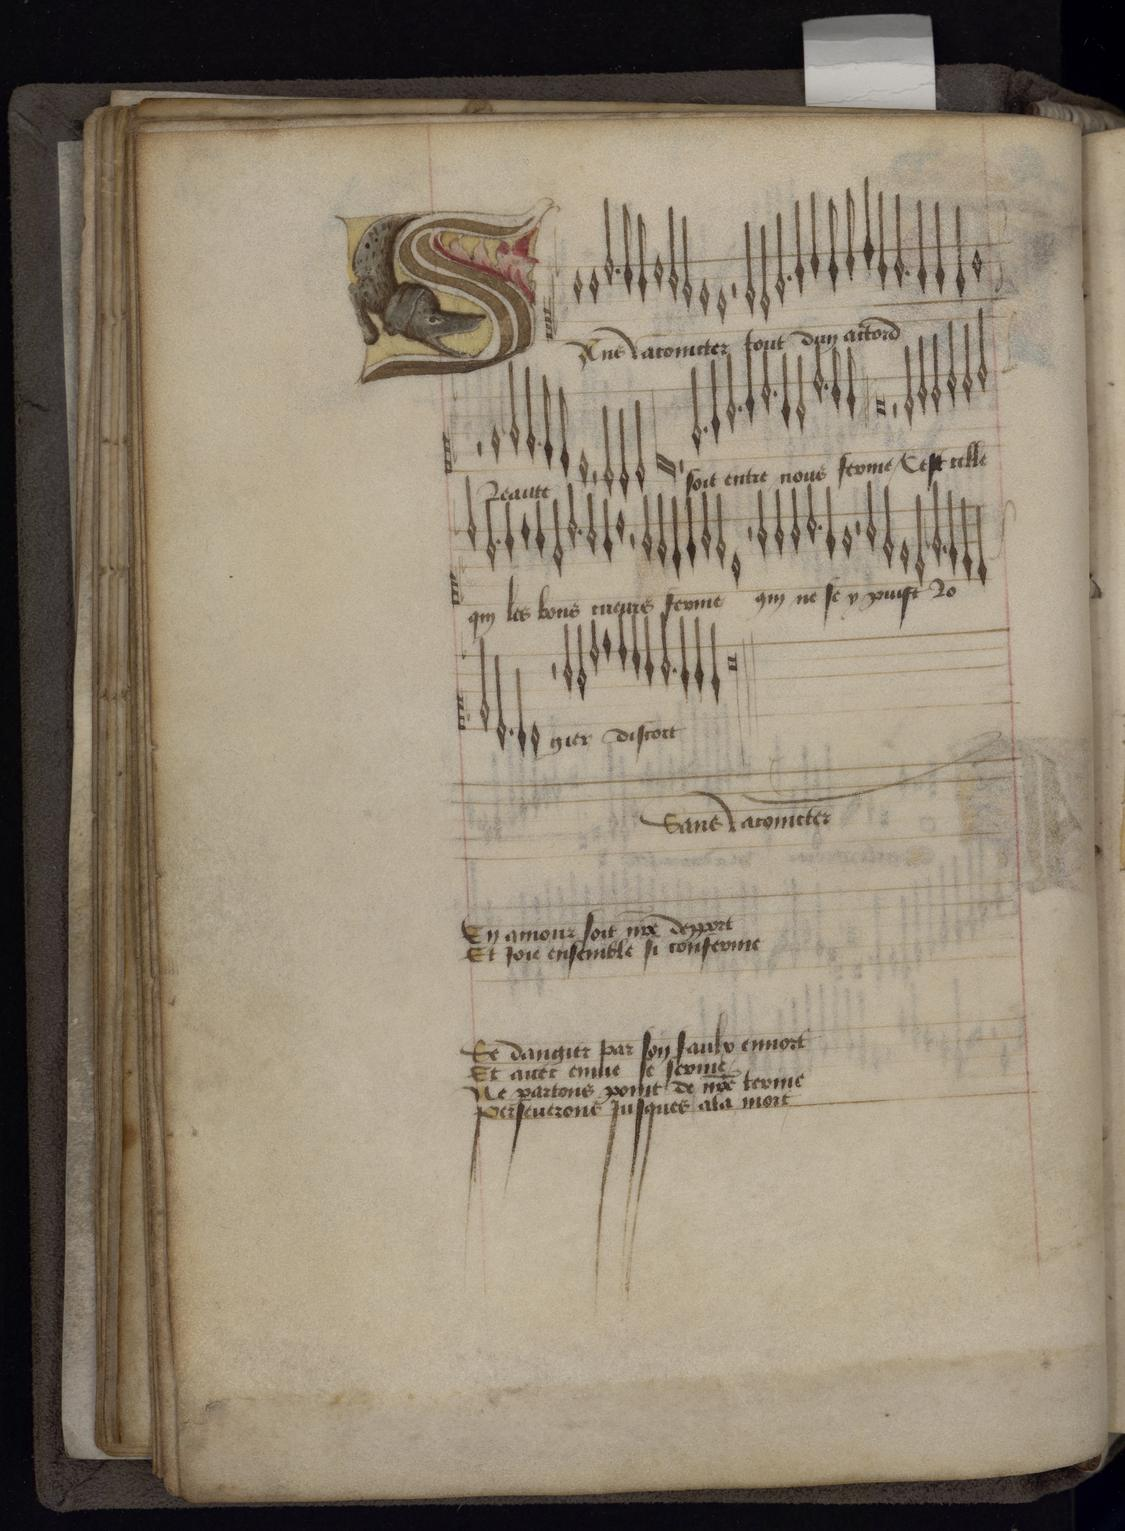c clef_9: (446, 565, 461, 600)
colored semibreve_3: (515, 505, 533, 550)
custos_9: (988, 502, 1006, 565)
dot: (492, 530, 507, 550), (573, 521, 587, 541), (813, 517, 827, 535)
flat_10: (458, 575, 466, 606)
flat_3: (445, 490, 465, 546)
flat_7: (925, 531, 937, 557)
minim rest: (850, 498, 865, 585), (624, 503, 640, 582), (743, 506, 756, 580)
minim_3: (461, 475, 480, 555), (561, 478, 579, 547)
minim_4: (582, 487, 601, 557), (802, 480, 818, 547)
minim_5: (697, 486, 715, 565), (637, 489, 655, 566), (769, 485, 787, 559), (784, 481, 802, 555), (480, 496, 498, 568), (862, 479, 879, 555), (754, 486, 771, 560)
minim_6: (547, 492, 565, 577), (711, 491, 729, 571), (653, 489, 670, 572)
minim_7: (878, 485, 897, 572), (932, 480, 942, 565)
minim_9: (913, 494, 930, 585)
semibreve rest: (941, 503, 950, 584)
semibreve_3: (612, 503, 629, 544)
semibreve_6: (838, 519, 856, 566)
semibreve_8: (897, 533, 916, 577), (728, 546, 746, 591)
semiminim_10: (976, 503, 994, 591)
semiminim_4: (499, 498, 517, 567), (532, 494, 547, 557)
semiminim_5: (598, 492, 614, 565)
semiminim_6: (681, 486, 699, 577), (821, 485, 837, 566)
semiminim_7: (667, 491, 683, 580)
semiminim_8: (949, 490, 963, 577)
semiminim_9: (959, 494, 974, 584)
